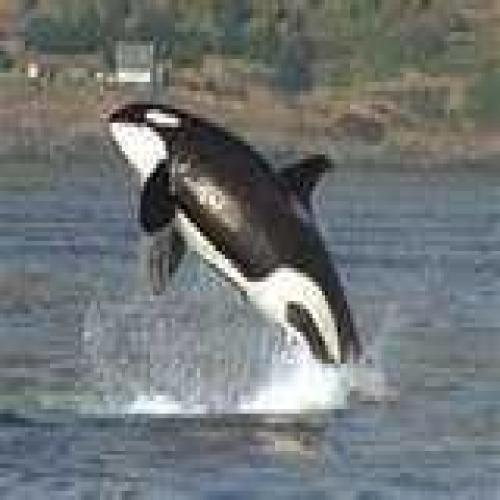killer_whale-endangered: (99, 88, 408, 404)
